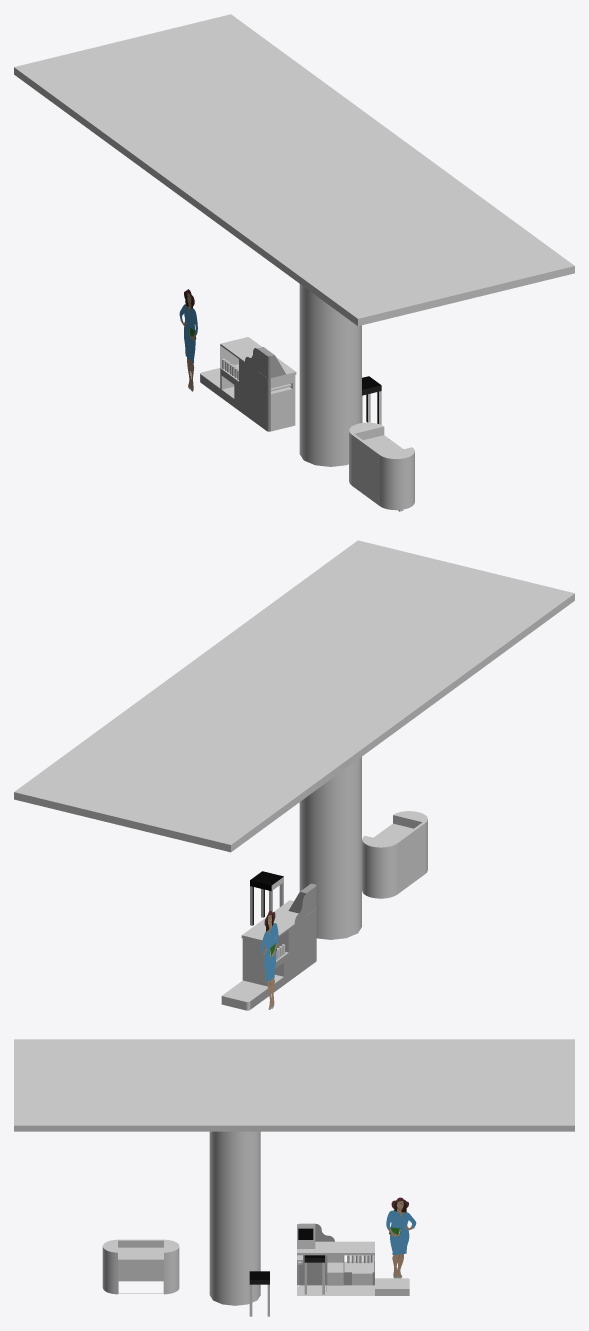
The model's file is hostess1.obj.
3 views of the same model, one above another, from view 1: azimuth 30°, elevation 25°; view 2: azimuth 150°, elevation 25°; view 3: azimuth 270°, elevation 25° (orthographic). The views are drawn at different scales.
Parts seen in each view (by area): view 1: Mesh21 Model, Mesh20 Model, Mesh17 Model, Mesh22 Model, Mesh3 Teddy1 Model, Mesh4 bbva1 Model; view 2: Mesh21 Model, Mesh20 Model, Mesh17 Model, Mesh22 Model, Mesh3 Teddy1 Model, Mesh4 bbva1 Model; view 3: Mesh21 Model, Mesh20 Model, Mesh17 Model, Mesh22 Model, Mesh3 Teddy1 Model, Mesh19 Model, Mesh4 bbva1 Model, Mesh1 monitor2_1 Model.
Part boxes in pixels (x1,y1,x2,y2): Mesh21 Model: [14, 14, 574, 326]; Mesh20 Model: [299, 284, 361, 466]; Mesh17 Model: [200, 337, 296, 431]; Mesh22 Model: [349, 422, 414, 511]; Mesh3 Teddy1 Model: [179, 289, 197, 391]; Mesh4 bbva1 Model: [362, 376, 381, 424]; Mesh21 Model: [14, 540, 574, 852]; Mesh20 Model: [299, 757, 361, 939]; Mesh17 Model: [221, 900, 316, 1010]; Mesh22 Model: [362, 811, 427, 898]; Mesh3 Teddy1 Model: [260, 910, 278, 1009]; Mesh4 bbva1 Model: [250, 871, 283, 925]; Mesh21 Model: [14, 1039, 574, 1131]; Mesh20 Model: [209, 1131, 260, 1305]; Mesh17 Model: [297, 1241, 409, 1295]; Mesh22 Model: [102, 1239, 179, 1294]; Mesh3 Teddy1 Model: [386, 1197, 416, 1278]; Mesh19 Model: [327, 1255, 343, 1295]; Mesh4 bbva1 Model: [249, 1271, 269, 1316]; Mesh1 monitor2_1 Model: [297, 1223, 315, 1248].
Size of the model in its own units: 4 by 4.59 by 10.98.
